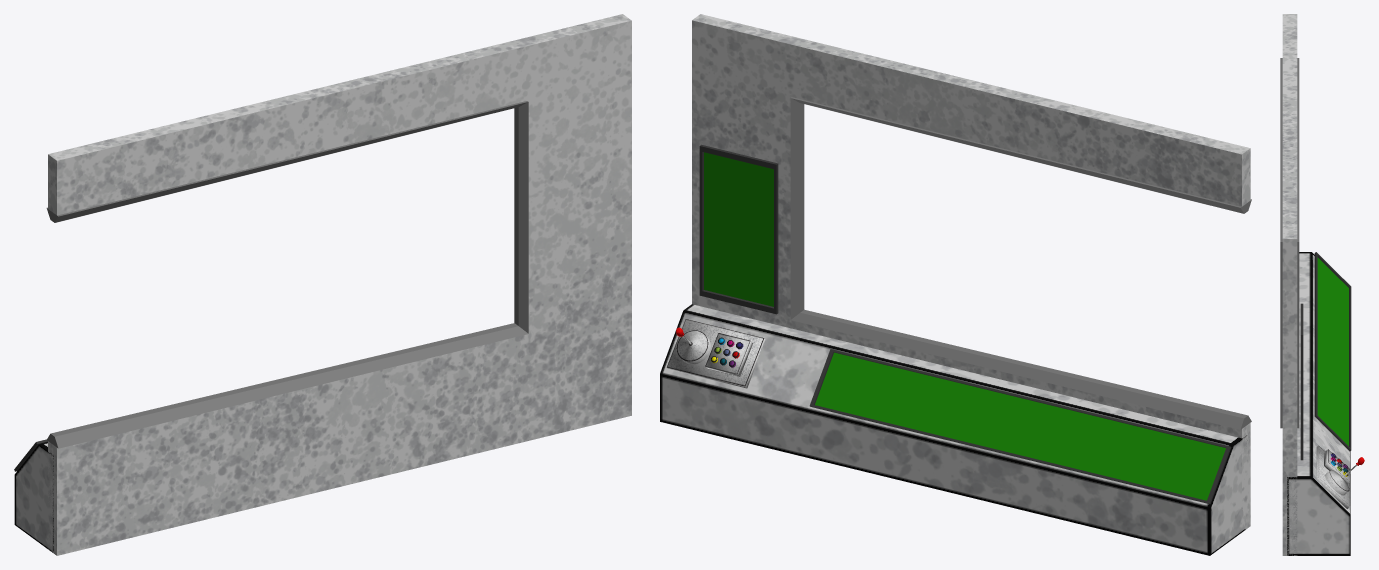
Rendered from Sala del Cientifico 1.fbx.
The picture shows the model from 3 angles, left to right: view 1: azimuth 30°, elevation 25°; view 2: azimuth 150°, elevation 25°; view 3: azimuth 270°, elevation 25°; orthographic projection. The views are drawn at different scales.
Visible parts, largest first — view 1: paredes, marco-ventana, mesa-mandos; view 2: paredes, mesa-mandos, pantalla-horizontal, marco-ventana, pantalla-vertical, Botonera; view 3: mesa-mandos, paredes, pantalla-horizontal, marco-ventana, Botonera, pantalla-vertical.
Part boxes in pixels (x1,y1,x2,y2): paredes: (48, 14, 631, 555); marco-ventana: (46, 101, 528, 448); mesa-mandos: (14, 442, 53, 552); paredes: (692, 14, 1250, 529); mesa-mandos: (660, 304, 1246, 555); pantalla-horizontal: (809, 349, 1231, 504); marco-ventana: (790, 97, 1251, 429); pantalla-vertical: (699, 144, 778, 314); Botonera: (667, 319, 765, 388); mesa-mandos: (1287, 252, 1350, 555); paredes: (1282, 14, 1297, 555); pantalla-horizontal: (1314, 252, 1351, 451); marco-ventana: (1280, 58, 1299, 428); Botonera: (1316, 445, 1364, 508); pantalla-vertical: (1300, 303, 1303, 460).
Bounding box in the file's own units: 1100 × 723 × 174.
